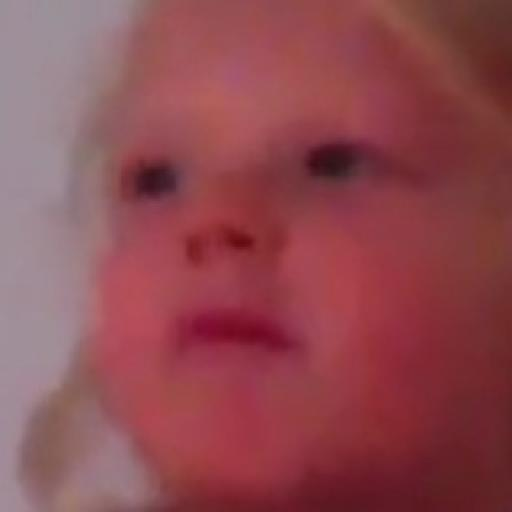Autism: (127, 13, 471, 491)
